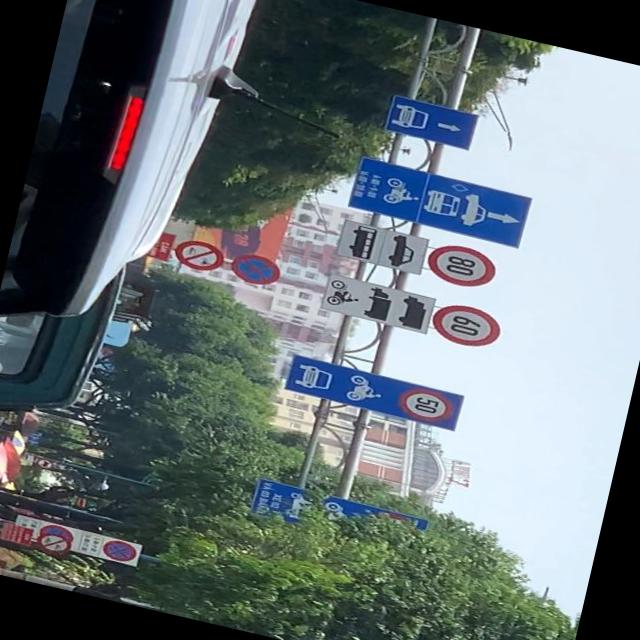P-127: (419, 238, 498, 294), (426, 301, 504, 352)
P-130: (227, 252, 283, 287)
